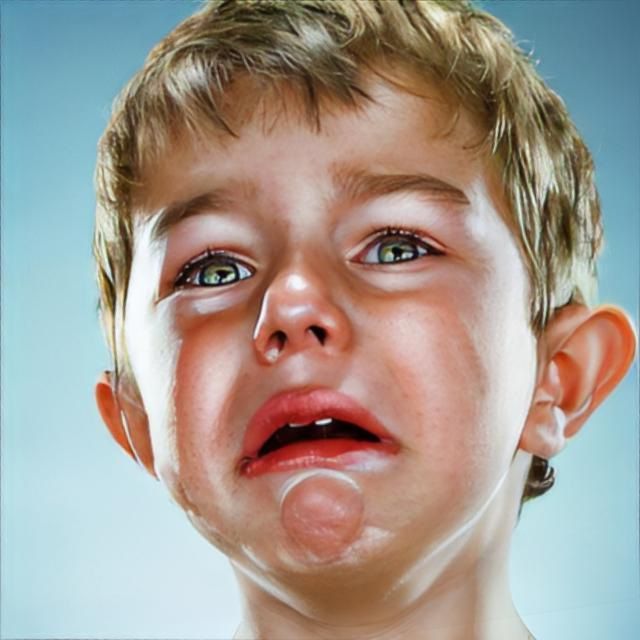sad: (145, 75, 530, 594)
